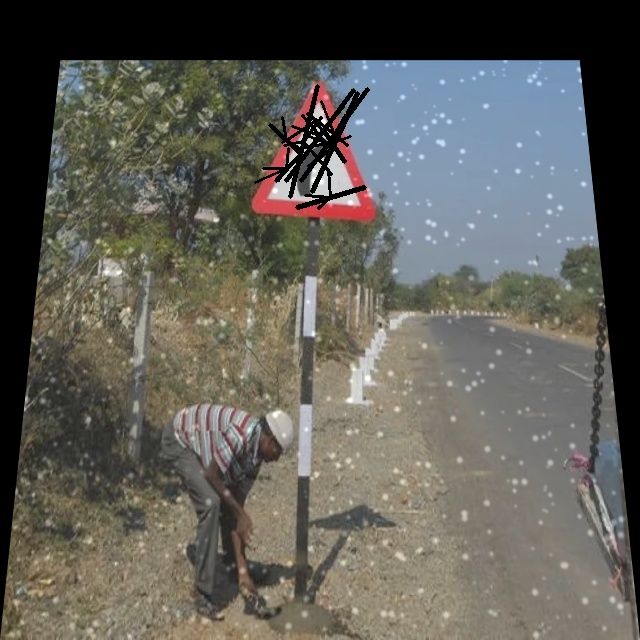Right_Hand_Curve: (251, 83, 376, 222)
